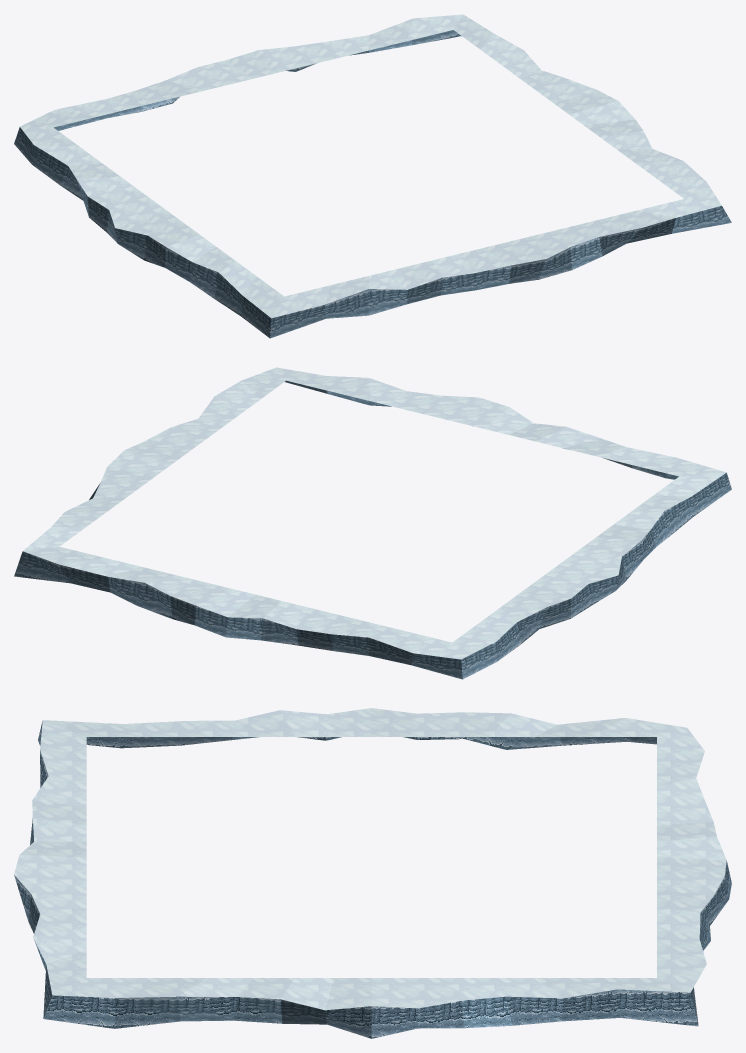
File: entorno_16.fbx
3 renders of one model, top to bottom at view 1: azimuth 30°, elevation 25°; view 2: azimuth 150°, elevation 25°; view 3: azimuth 270°, elevation 25°, orthographic. The views are drawn at different scales.
Visible parts, largest first — view 1: neve_entorno_16; view 2: neve_entorno_16; view 3: neve_entorno_16.
Part boxes in pixels (x1,y1,x2,y2): neve_entorno_16: (14,14,731,338); neve_entorno_16: (14,367,731,679); neve_entorno_16: (14,708,731,1038).
Size of the model in its own units: 2059 by 107 by 2039.
2 materials, 2 textured.
